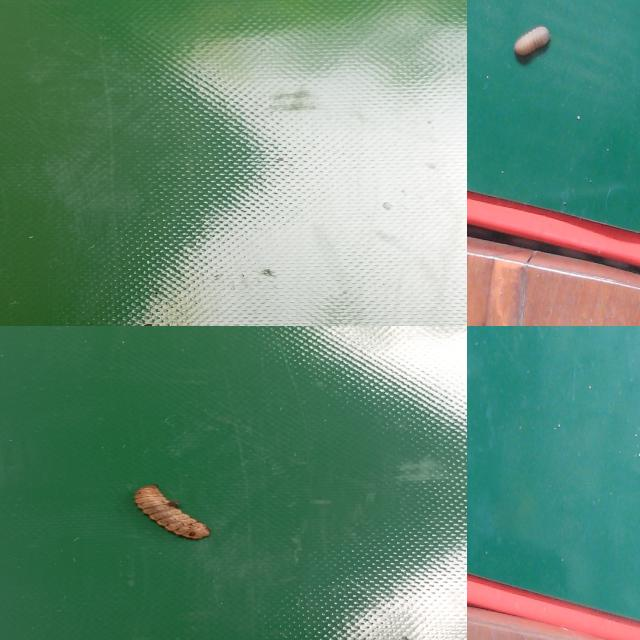Maggot: (133, 485, 209, 542), (513, 25, 553, 67)
